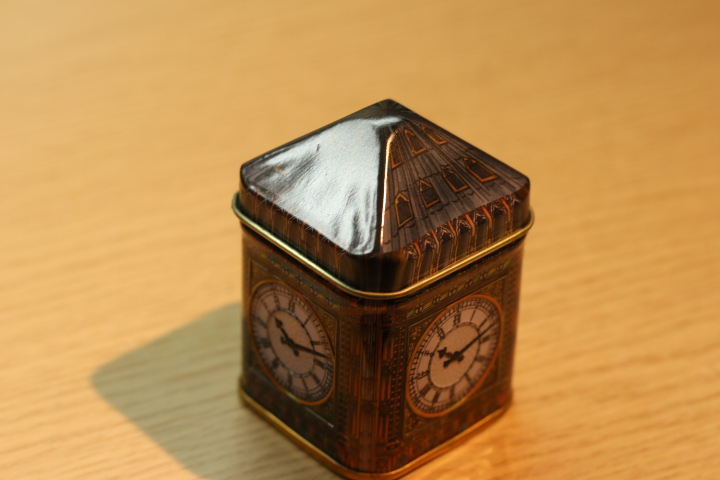Big Ben: (219, 84, 565, 480)
